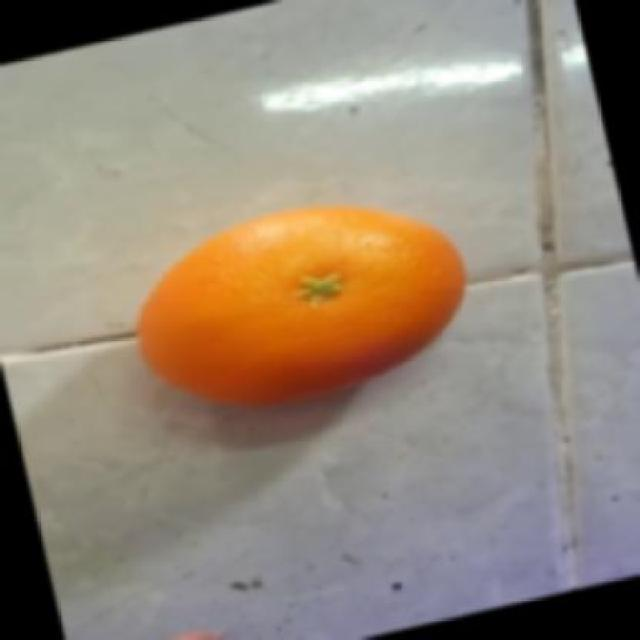Orange: (134, 202, 466, 406)
